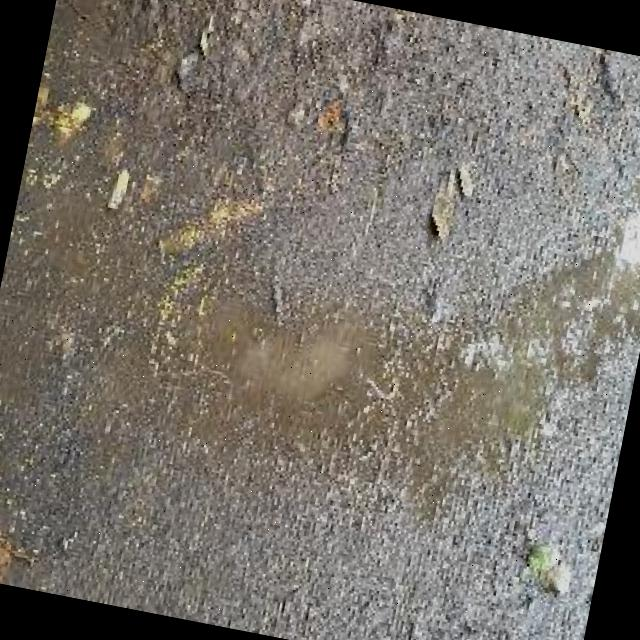stagnation: (0, 88, 640, 545)
